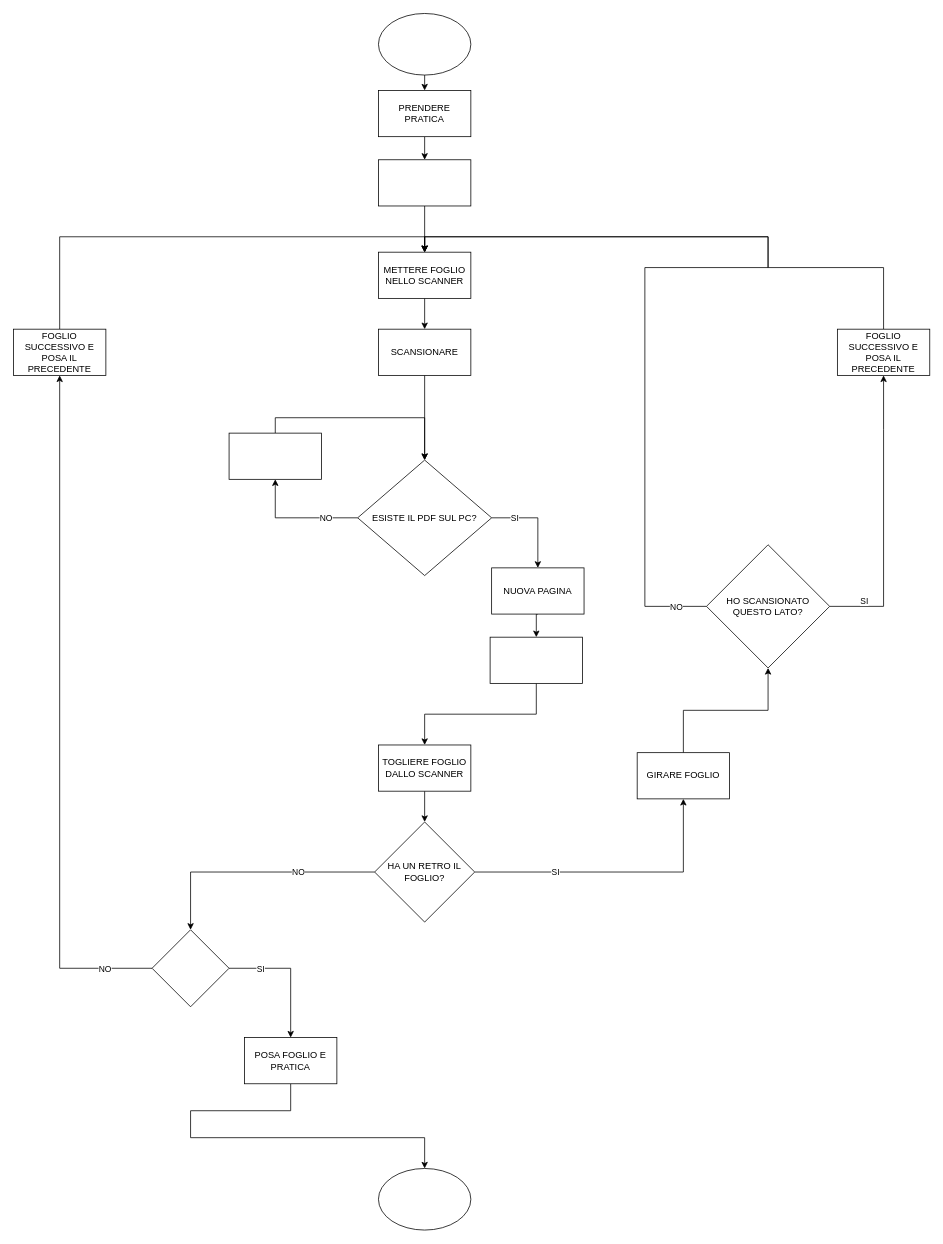
The diagram is 943 pixels wide and 1244 high, and some of its shapes have lost their labels. Here are the shapes that lost their labels. From the top down, the centre of each, then its label:
At point (424, 44): "INIZIO".
At point (424, 182): "PRENDERE PRIMO FOGLIO".
At point (274, 455): "CREARE PDF".
At point (536, 659): "SALVARE SCANSIONE IN NUOVA PAGINA".
At point (190, 968): "È L'ULTIMO FOGLIO?".
At point (424, 1199): "FINE".
